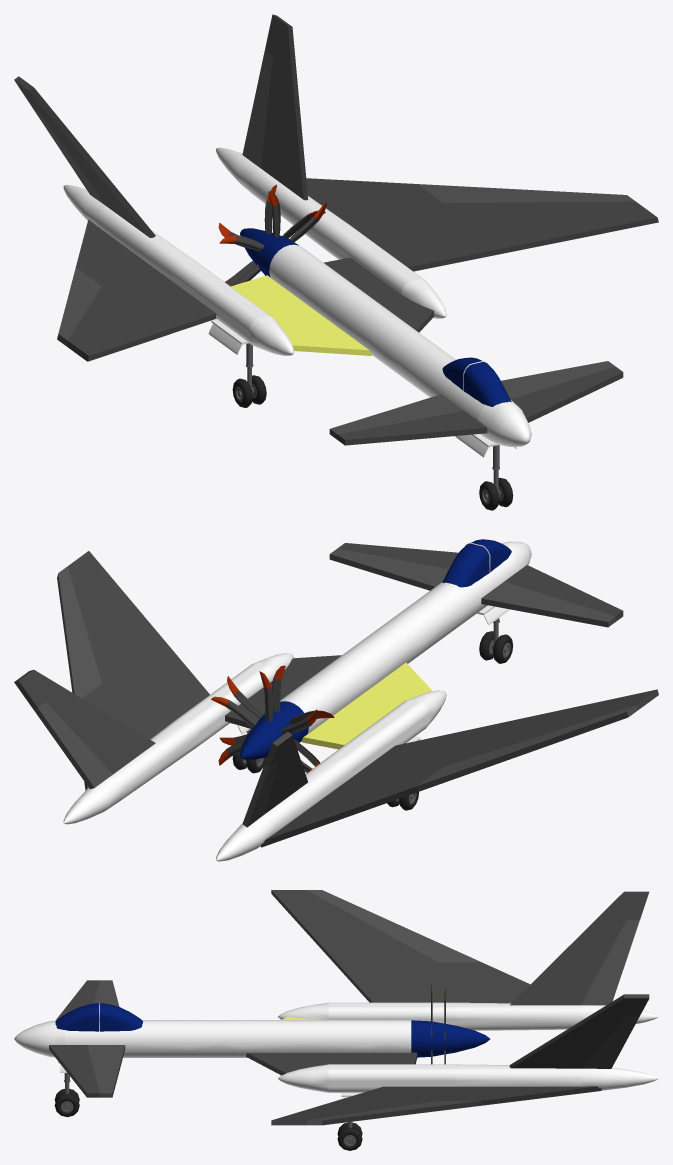
The model's file is ente progress_export.obj.
3 renders of one model, top to bottom at view 1: azimuth 30°, elevation 25°; view 2: azimuth 150°, elevation 25°; view 3: azimuth 270°, elevation 25°, orthographic. The views are drawn at different scales.
Visible parts, largest first — view 1: Mesh_58, Mesh_2, Mesh_61, Mesh_23, Mesh_1, Mesh_24, Mesh_32, Mesh_27, Mesh_29, Mesh_56, Control Surface_59, Mesh_25 (+16 smaller); view 2: Mesh_58, Mesh_2, Mesh_61, Mesh_1, Mesh_23, Mesh_24, Control Surface_3, Mesh_27, Mesh_57, Control Surface_59, Control Surface_30, Mesh_25 (+18 smaller); view 3: Mesh_2, Mesh_32, Mesh_58, Mesh_1, Mesh_61, Mesh_25, Mesh_27, Mesh_56, Mesh_57, Mesh_24, Mesh_55, Control Surface_3 (+18 smaller).
Part boxes in pixels (x1=…): Mesh_58: x1=306, y1=178, x2=658, y2=271; Mesh_2: x1=66, y1=219, x2=216, y2=361; Mesh_61: x1=261, y1=14, x2=308, y2=200; Mesh_23: x1=231, y1=275, x2=371, y2=355; Mesh_1: x1=294, y1=264, x2=402, y2=357; Mesh_24: x1=173, y1=260, x2=272, y2=344; Mesh_32: x1=14, y1=76, x2=155, y2=237; Mesh_27: x1=401, y1=341, x2=485, y2=435; Mesh_29: x1=337, y1=411, x2=487, y2=445; Mesh_56: x1=325, y1=223, x2=424, y2=294; Control Surface_59: x1=417, y1=184, x2=635, y2=203; Mesh_25: x1=96, y1=206, x2=195, y2=281; Mesh_58: x1=67, y1=551, x2=209, y2=790; Mesh_2: x1=260, y1=689, x2=658, y2=847; Mesh_61: x1=14, y1=669, x2=155, y2=774; Mesh_1: x1=302, y1=627, x2=410, y2=714; Mesh_23: x1=302, y1=662, x2=432, y2=749; Mesh_24: x1=329, y1=699, x2=428, y2=776; Control Surface_3: x1=417, y1=705, x2=637, y2=791; Mesh_27: x1=408, y1=556, x2=517, y2=642; Mesh_57: x1=111, y1=718, x2=199, y2=801; Control Surface_59: x1=57, y1=566, x2=101, y2=698; Control Surface_30: x1=481, y1=581, x2=615, y2=627; Mesh_25: x1=265, y1=755, x2=351, y2=832; Mesh_2: x1=271, y1=890, x2=530, y2=1003; Mesh_32: x1=510, y1=891, x2=649, y2=1005; Mesh_58: x1=271, y1=1086, x2=601, y2=1125; Mesh_1: x1=242, y1=1020, x2=369, y2=1057; Mesh_61: x1=509, y1=994, x2=649, y2=1068; Mesh_25: x1=455, y1=1002, x2=582, y2=1030; Mesh_27: x1=65, y1=1020, x2=191, y2=1057; Mesh_56: x1=328, y1=1064, x2=455, y2=1092; Mesh_57: x1=455, y1=1064, x2=582, y2=1086; Mesh_24: x1=328, y1=1002, x2=455, y2=1025; Mesh_55: x1=246, y1=1052, x2=417, y2=1075; Control Surface_3: x1=307, y1=890, x2=481, y2=962.
Size of the model in its own units: 10.78 by 3.77 by 12.69.
2 materials, 1 textured.
